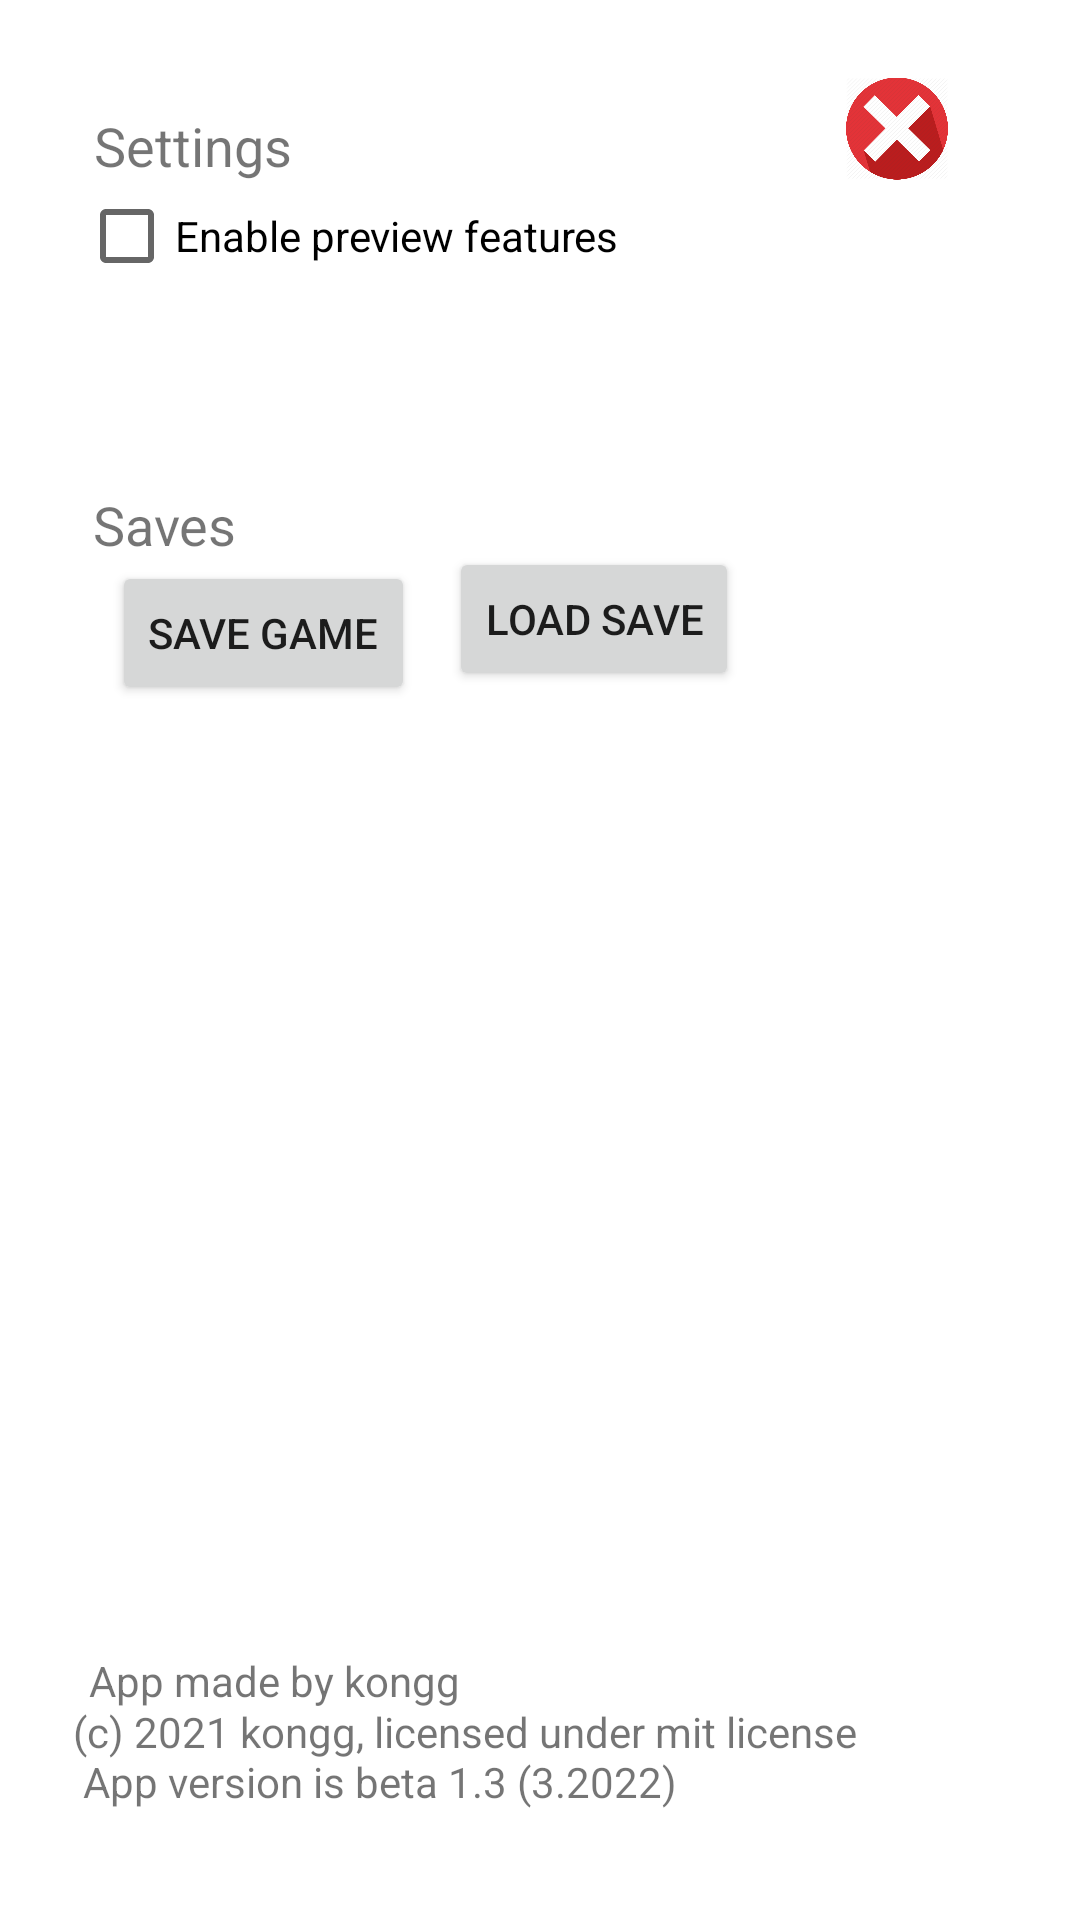

Icon click points for this 1080px x 1920px phone screenshot, format point (x, y):
cross: point (897, 129)
